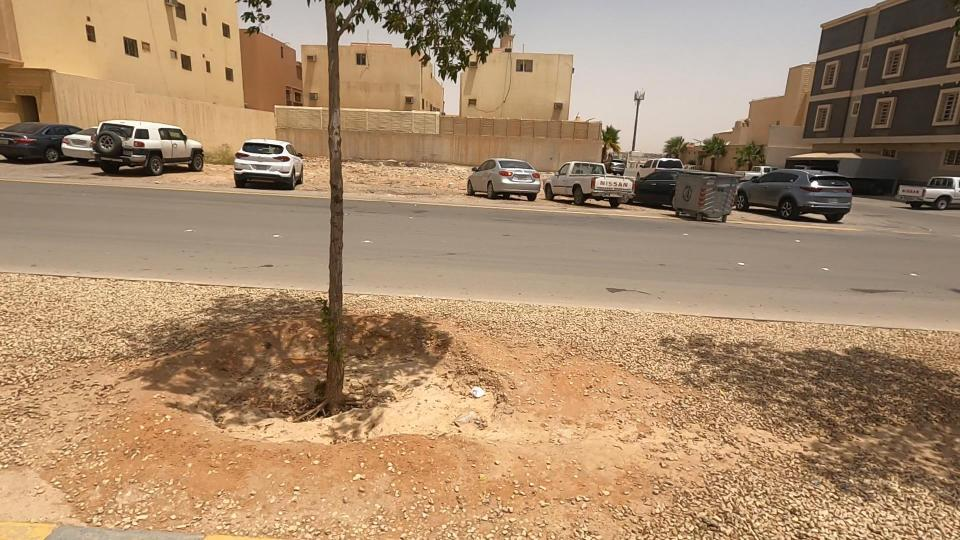GARBAGE: (423, 357, 517, 423)
